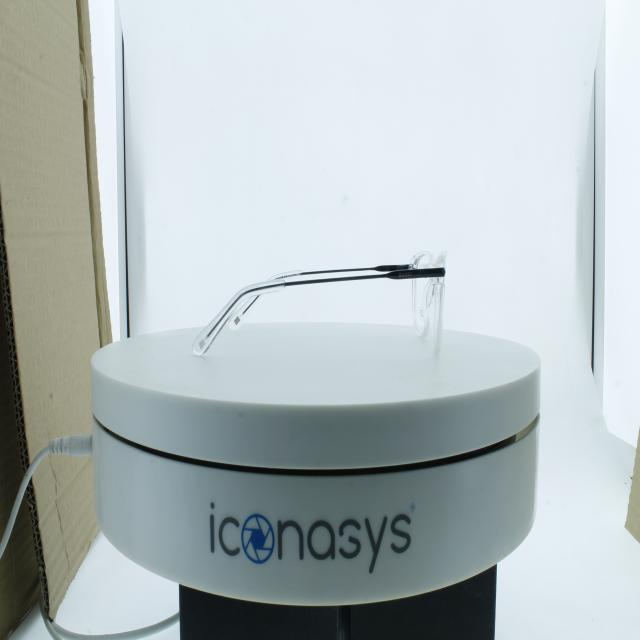Specs: (184, 238, 460, 378)
